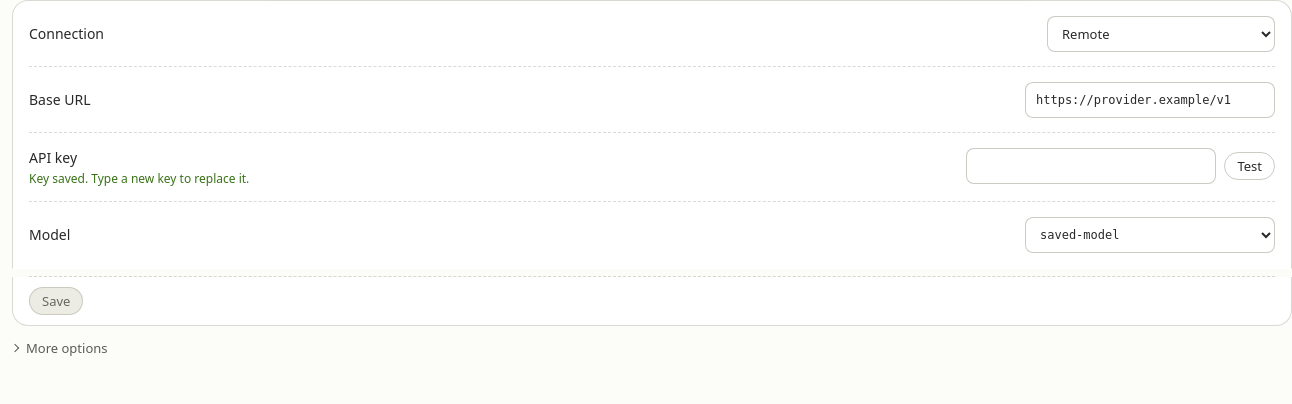
lists saved connections by name and loads models only when Test is clicked
Click the button "Test": (1250, 166) [1224, 152, 1275, 180]
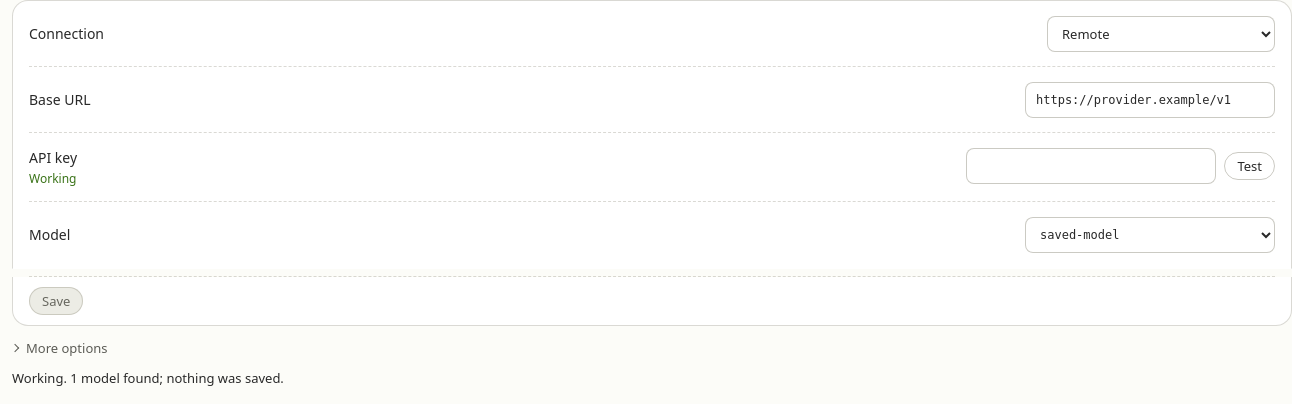
Check: the dropdown named "Model" shows "saved-model", box [1025, 217, 1275, 253]
Check: the text "Working. 1 model found; nothing was saved." is shown, box [12, 369, 284, 387]
